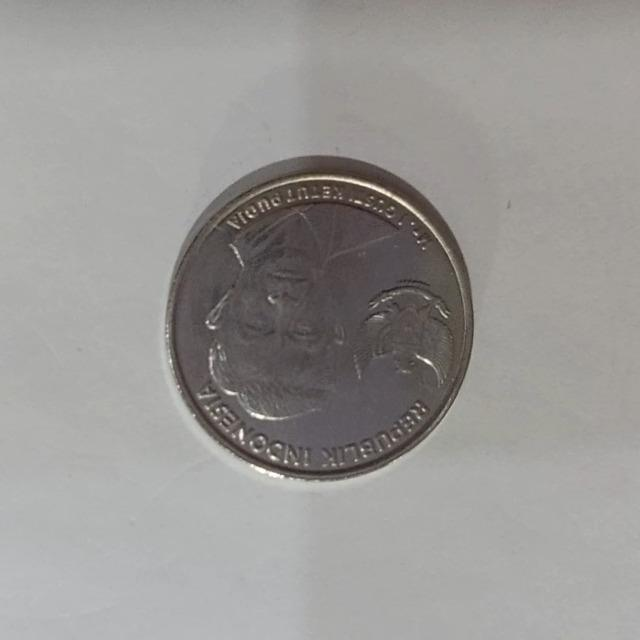Rp100: (163, 154, 476, 483)
